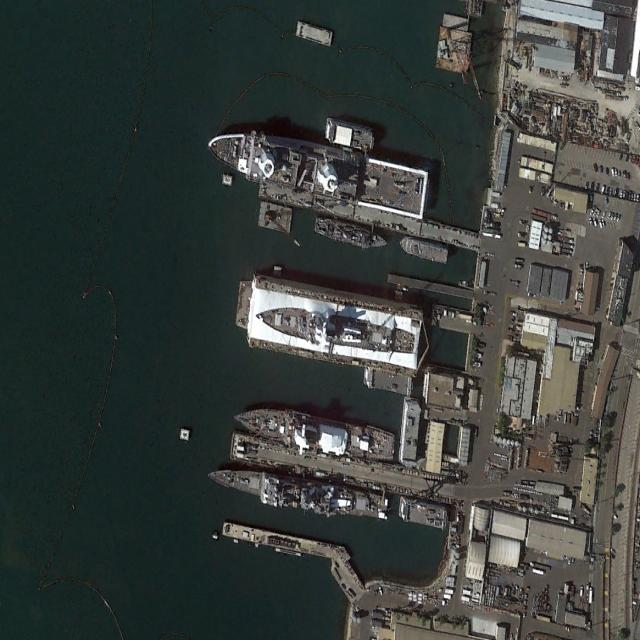Auxiliary Ships: (204, 124, 430, 218)
Destroyer: (253, 300, 415, 358)
Other Warship: (231, 393, 396, 468), (204, 461, 391, 526)
